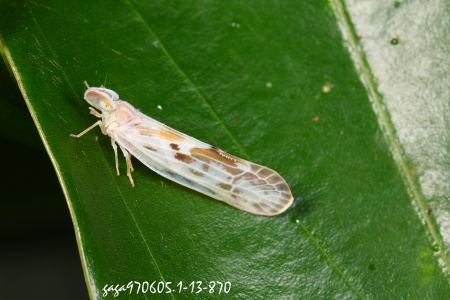Delphacidae: (69, 78, 294, 217)
